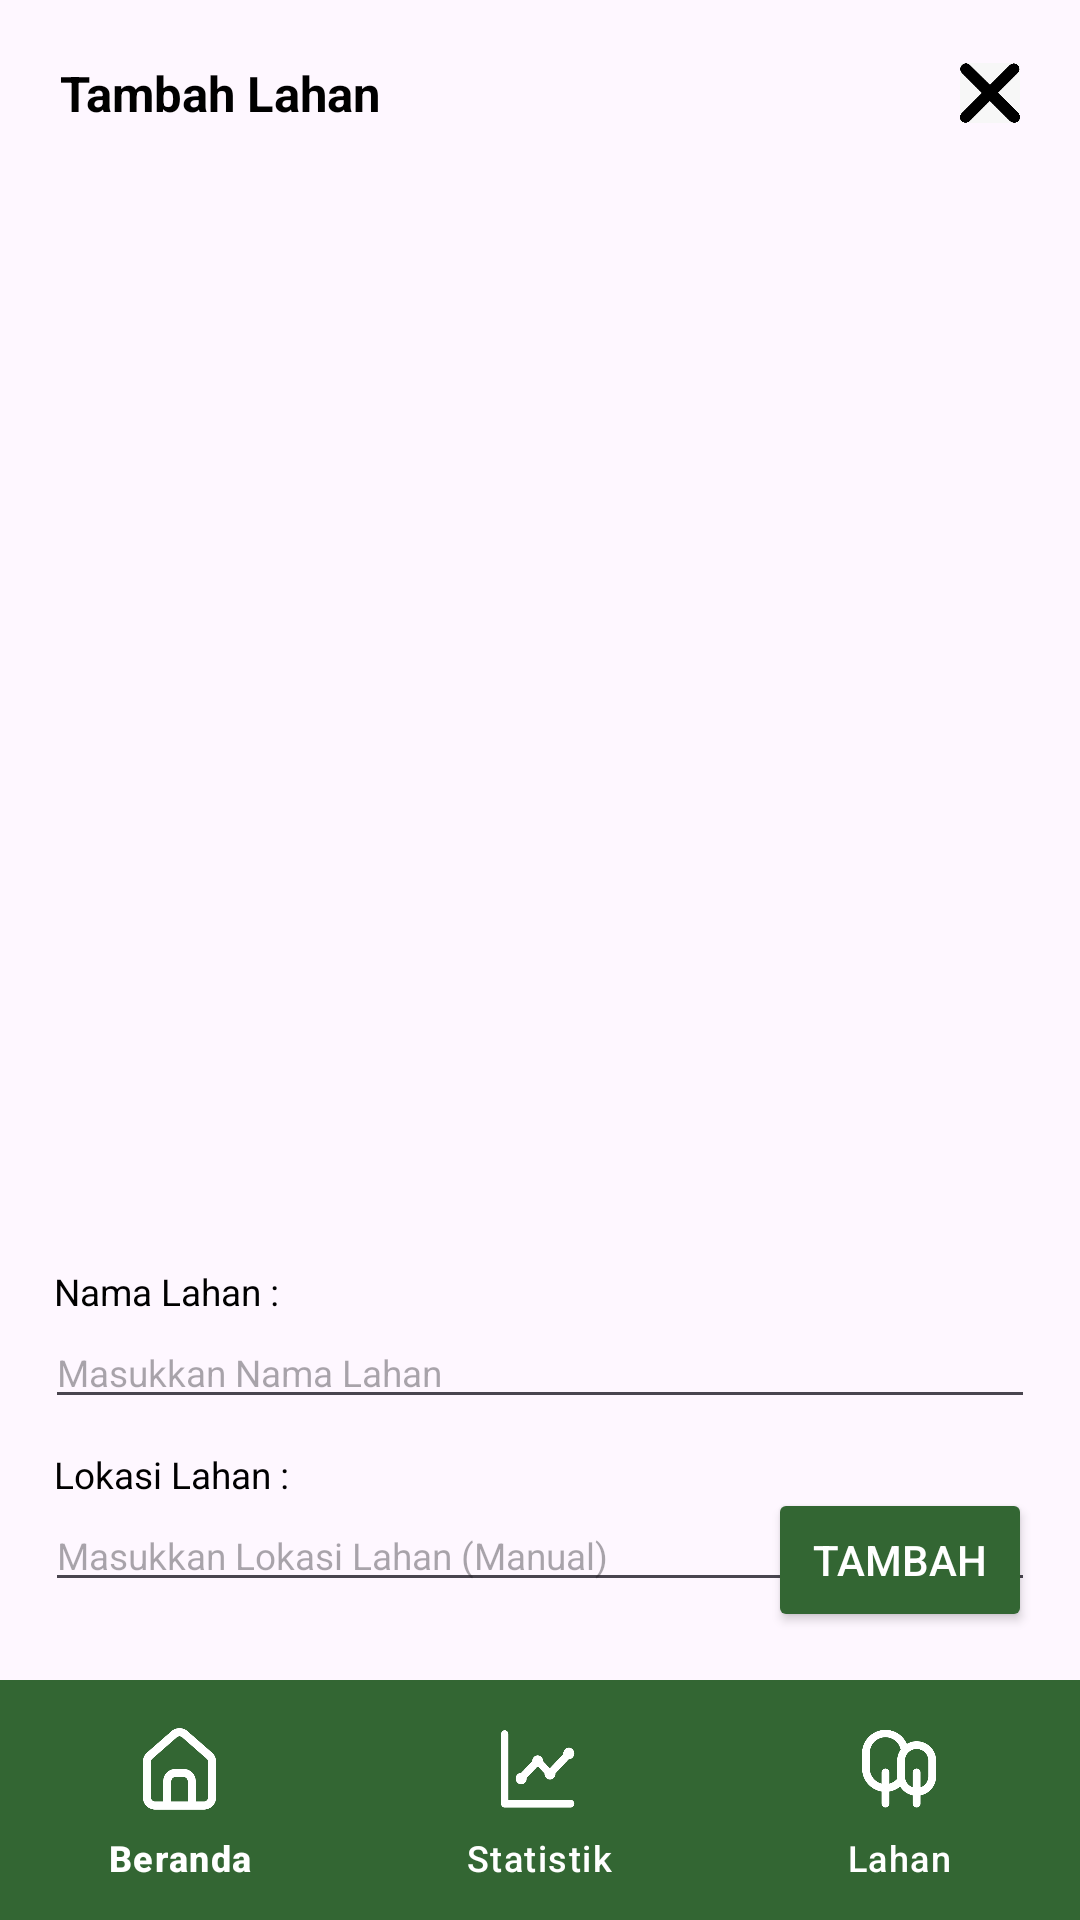

Screen size 1080*1920. Icon name, then its center in pixels as point (x, y):
close: point (990, 93)
